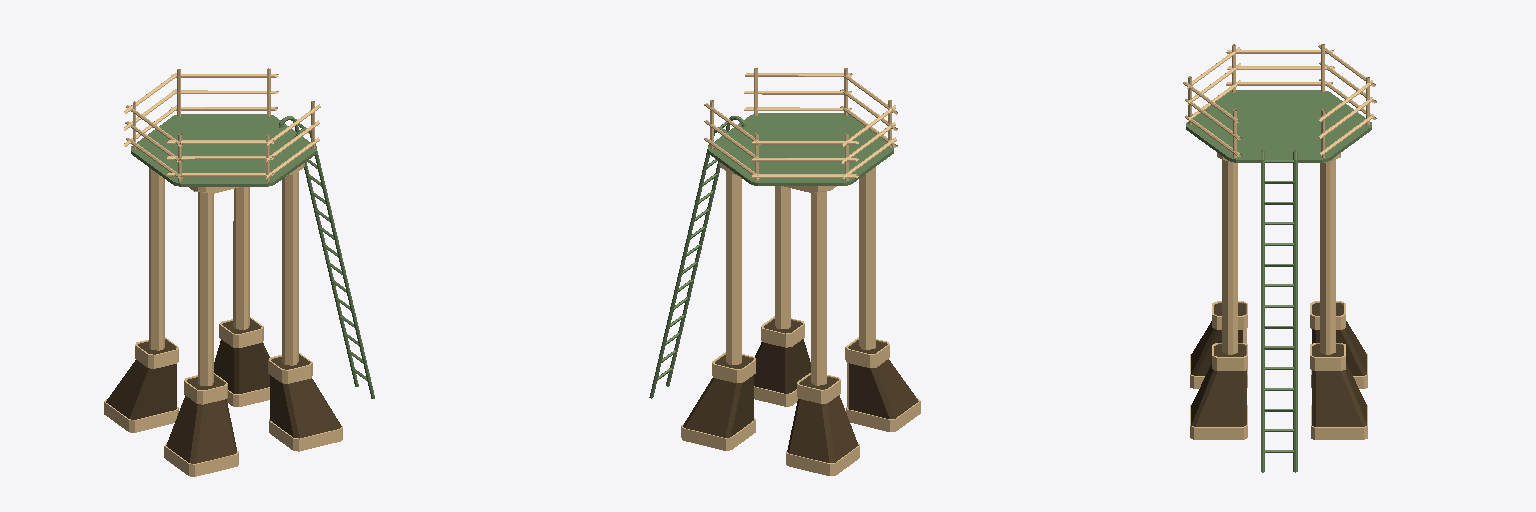
The model's file is Balwarte-Lv1_remake.obj.
The picture shows the model from 3 angles: view 1: azimuth 30°, elevation 25°; view 2: azimuth 150°, elevation 25°; view 3: azimuth 270°, elevation 25°; orthographic projection.
Parts seen in each view (by area): view 1: 01_Cube.001; view 2: 01_Cube.001; view 3: 01_Cube.001.
Part boxes in pixels (left/top/right/bottom): 01_Cube.001: left=104, top=68, right=374, bottom=476; 01_Cube.001: left=649, top=68, right=920, bottom=475; 01_Cube.001: left=1183, top=44, right=1376, bottom=472.
Bounding box in the file's own units: 5.84 × 8.2 × 4.44.